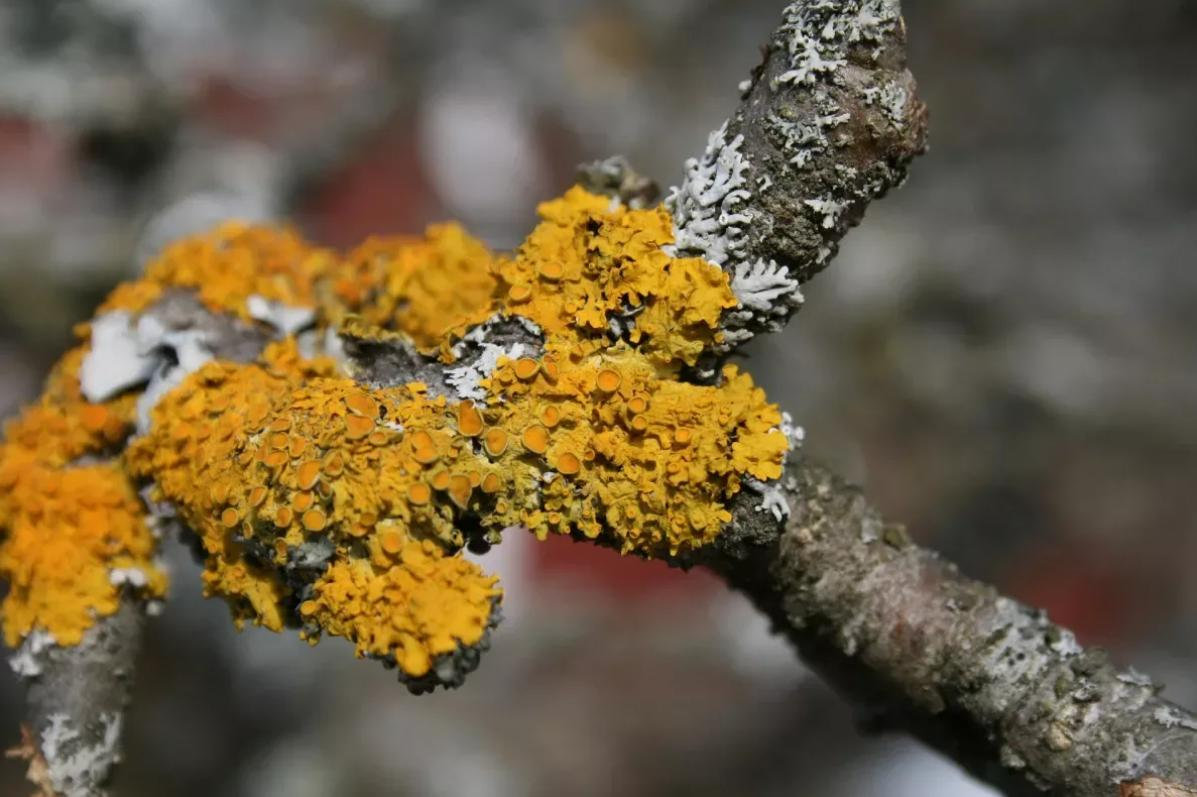lichen: (138, 349, 792, 633), (0, 347, 167, 646), (500, 186, 734, 364), (300, 523, 496, 679), (101, 222, 336, 319), (334, 223, 496, 351)
